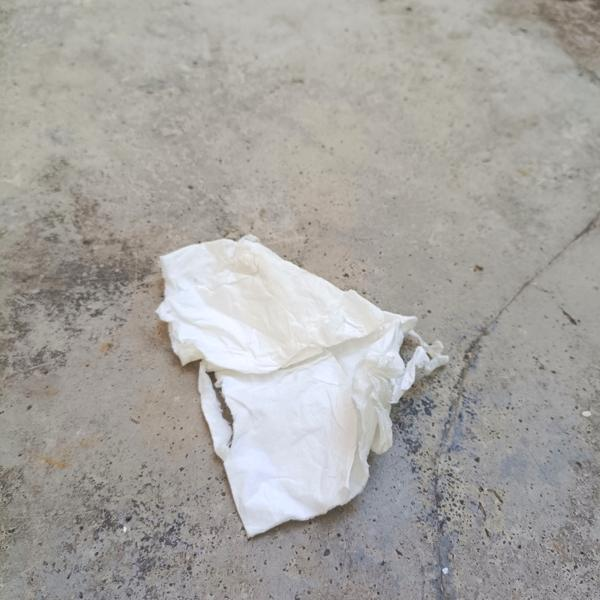Organik: (140, 229, 437, 546)
